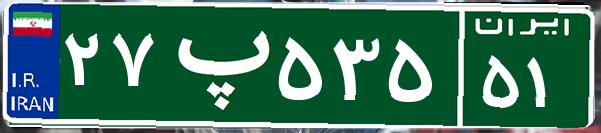1: (525, 38, 570, 115)
2: (57, 26, 110, 107)
3: (330, 28, 385, 110)
5: (385, 28, 445, 110), (273, 28, 330, 110), (475, 38, 525, 113)
7: (110, 28, 158, 105)
پ: (158, 15, 273, 115)
